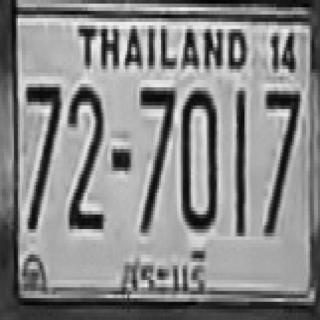N00: (180, 87, 216, 229)
N01: (234, 87, 244, 233)
N02: (67, 82, 102, 227)
N07: (24, 80, 60, 229), (138, 84, 174, 229), (264, 87, 298, 233)
P60: (115, 240, 210, 308)
